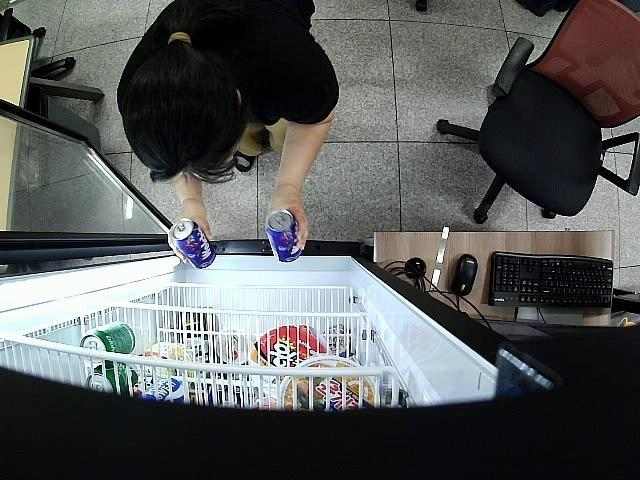14_welchsGrape: (170, 216, 215, 269), (266, 207, 302, 264)
